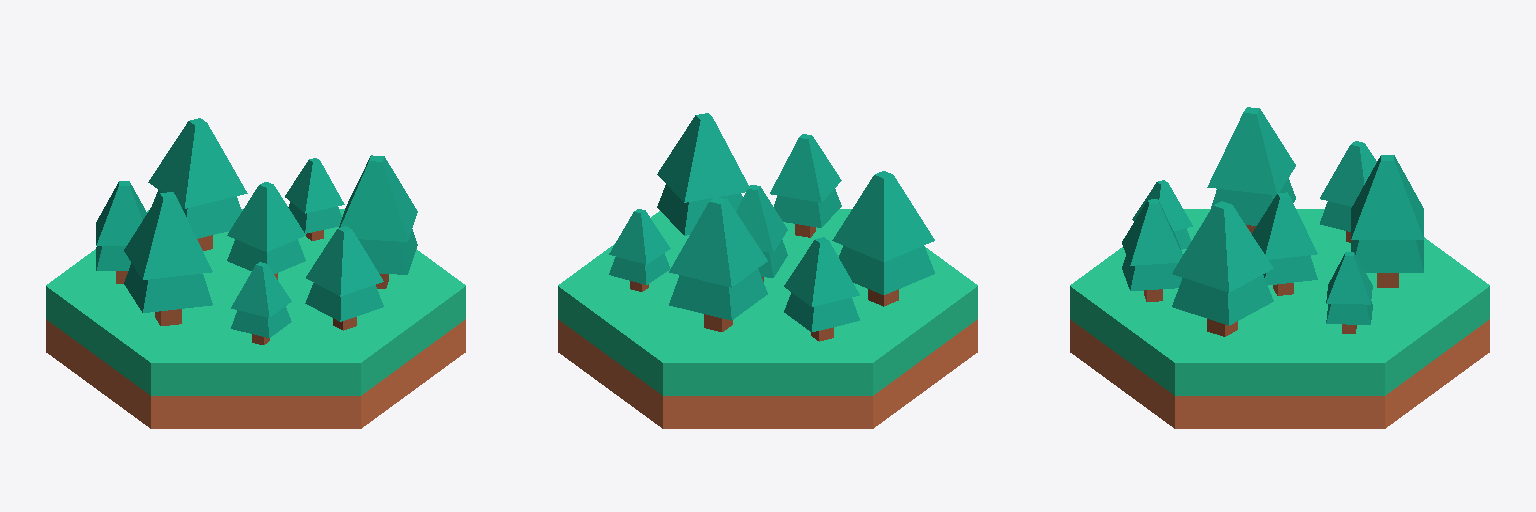
File: grass_forest.obj
The picture shows the model from 3 angles: view 1: azimuth 30°, elevation 25°; view 2: azimuth 150°, elevation 25°; view 3: azimuth 270°, elevation 25°; orthographic projection.
Parts seen in each view (by area): view 1: grass_forest, tree; view 2: grass_forest, tree; view 3: grass_forest, tree.
Boxes of the visible parts, box(x1,y1,x2,y2) form: grass_forest: box(46, 209, 465, 428); tree: box(96, 118, 417, 344); grass_forest: box(558, 209, 977, 428); tree: box(609, 113, 934, 341); grass_forest: box(1070, 209, 1489, 428); tree: box(1122, 107, 1423, 336).
Bounding box in the file's own units: 1 × 0.58 × 1.15.